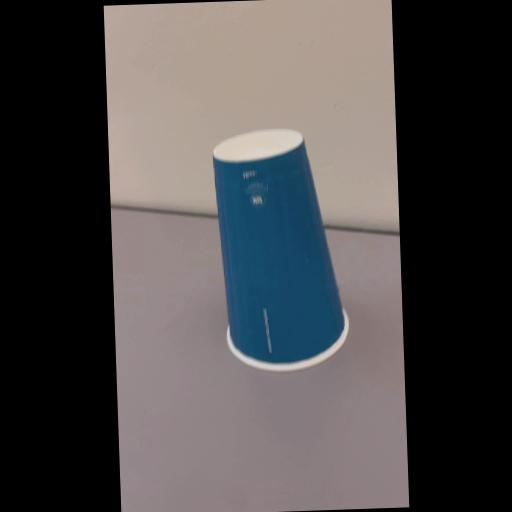lp_paper_cup: (210, 126, 349, 370)
